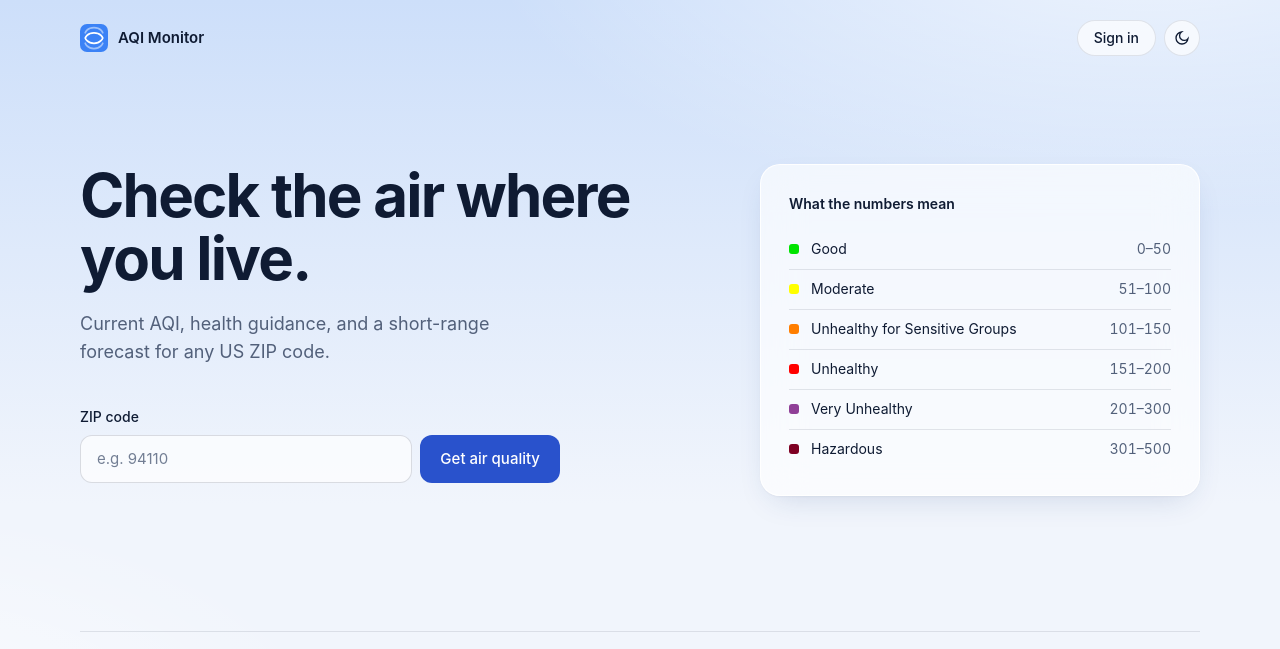
Test: App accessibility › keeps the previous reading when a later lookup fails
The image size is (1280, 649).
Type "12345" into the field labelled "ZIP code" at {"x": 246, "y": 459}, box [80,435,412,483]
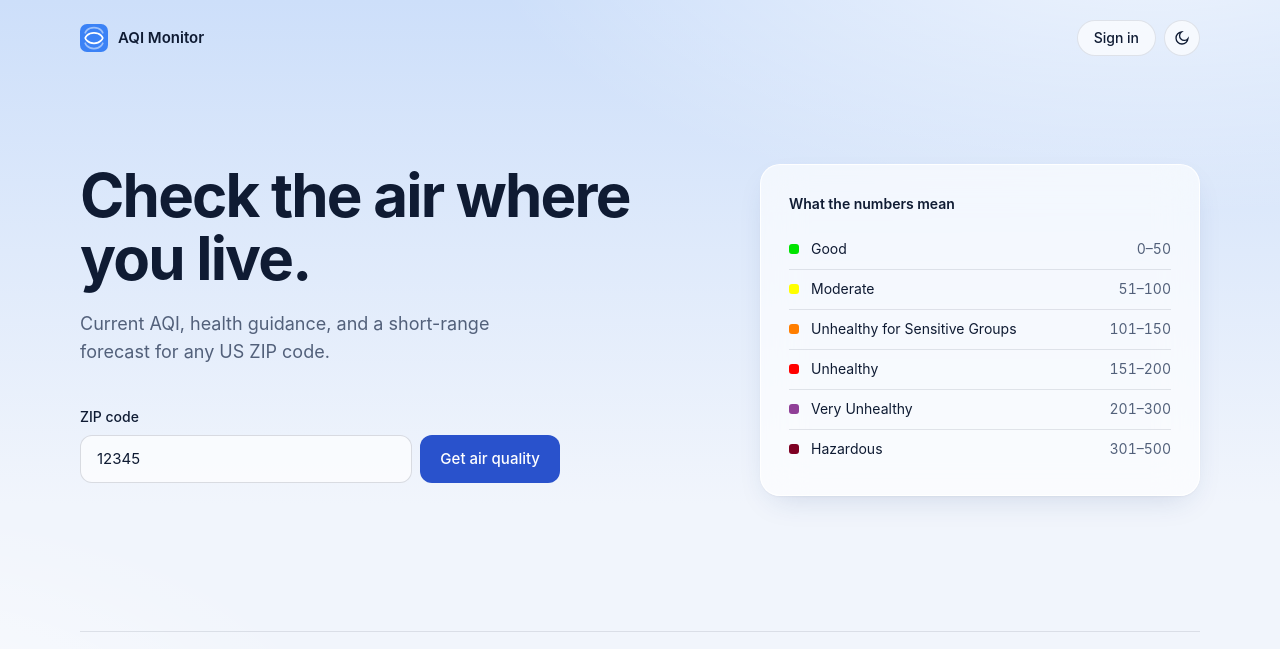
Click the button "Get air quality" at {"x": 490, "y": 459}, box [420,435,560,483]
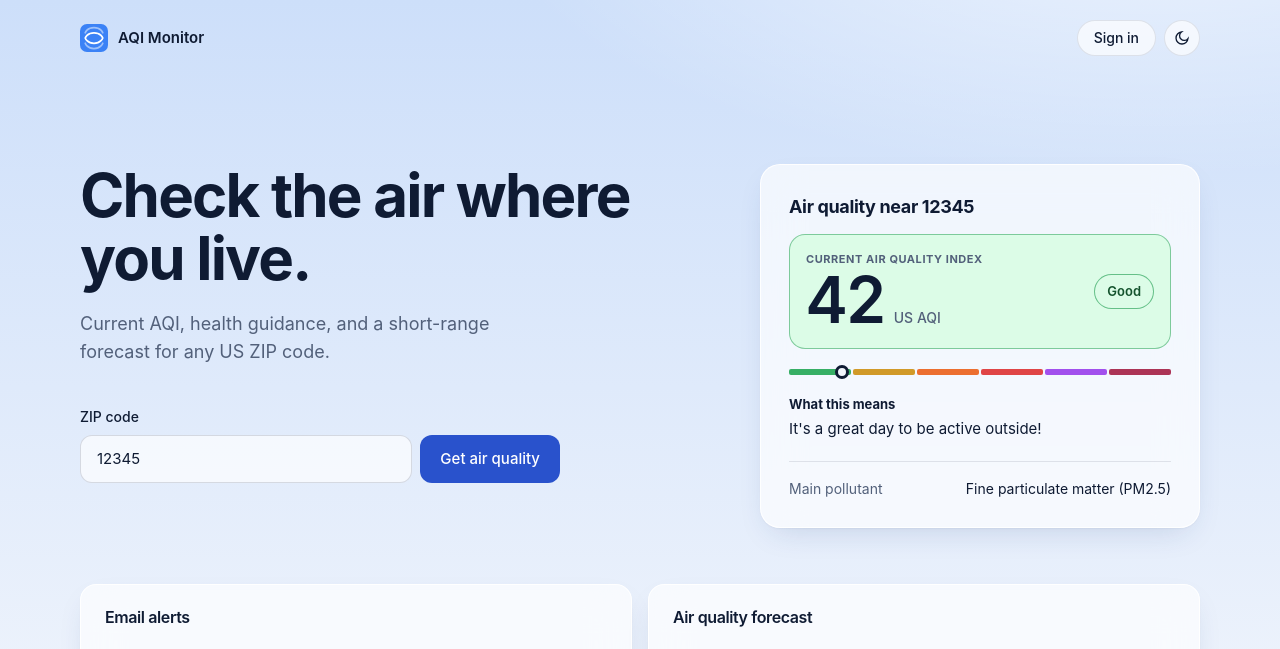
Replace the text in the field labelled "ZIP code" with "54321" at {"x": 246, "y": 459}, box [80,435,412,483]
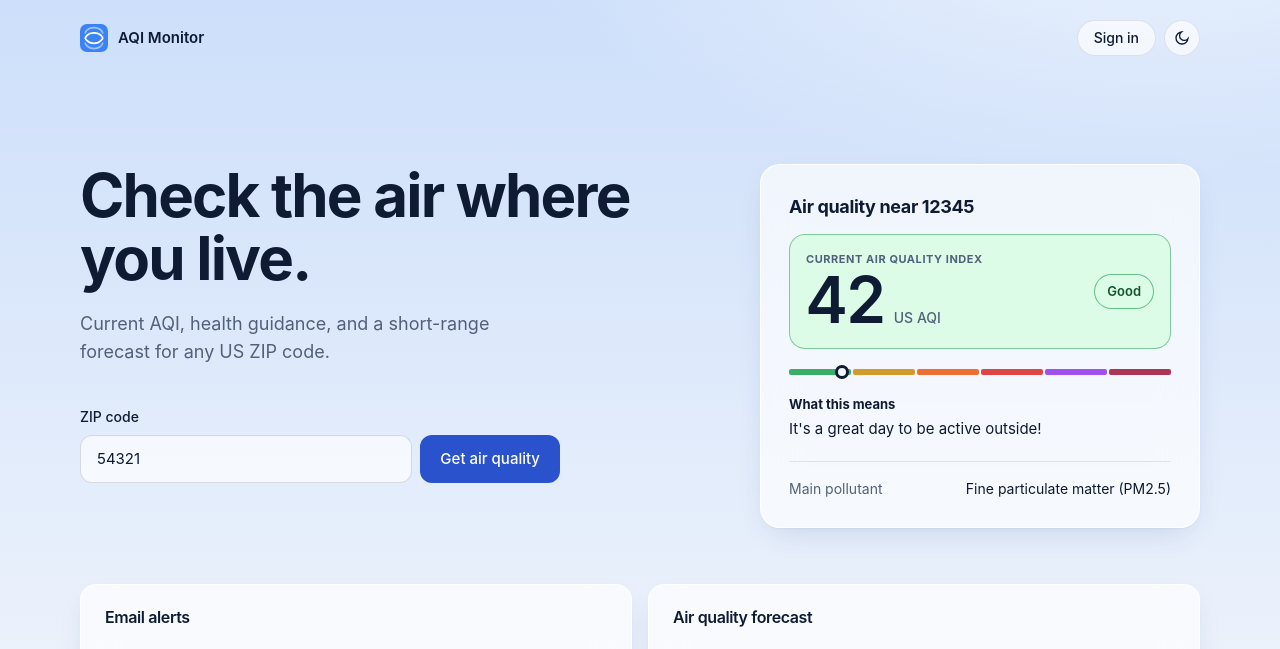
Click the button "Get air quality" at {"x": 490, "y": 459}, box [420,435,560,483]
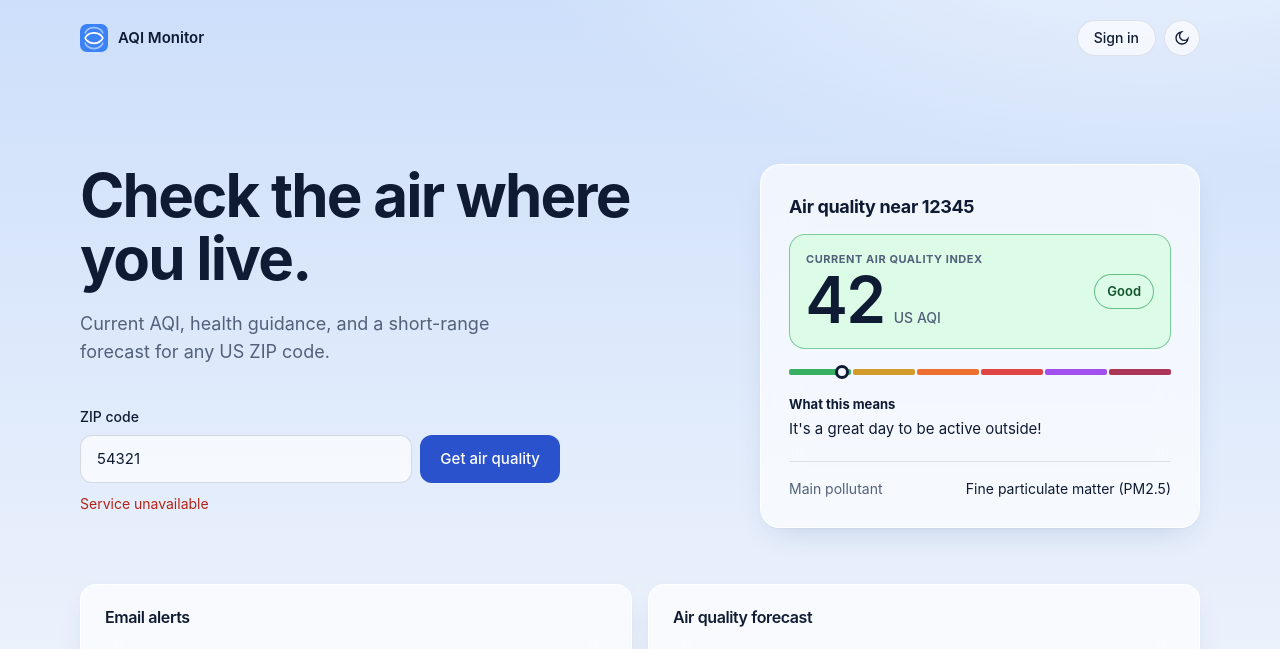
Expected: the message that starts with "Air quality near" shows "Air quality near 12345", [789,193,1171,498]
Expected: the text "Service unavailable" is shown, [80,495,209,512]
